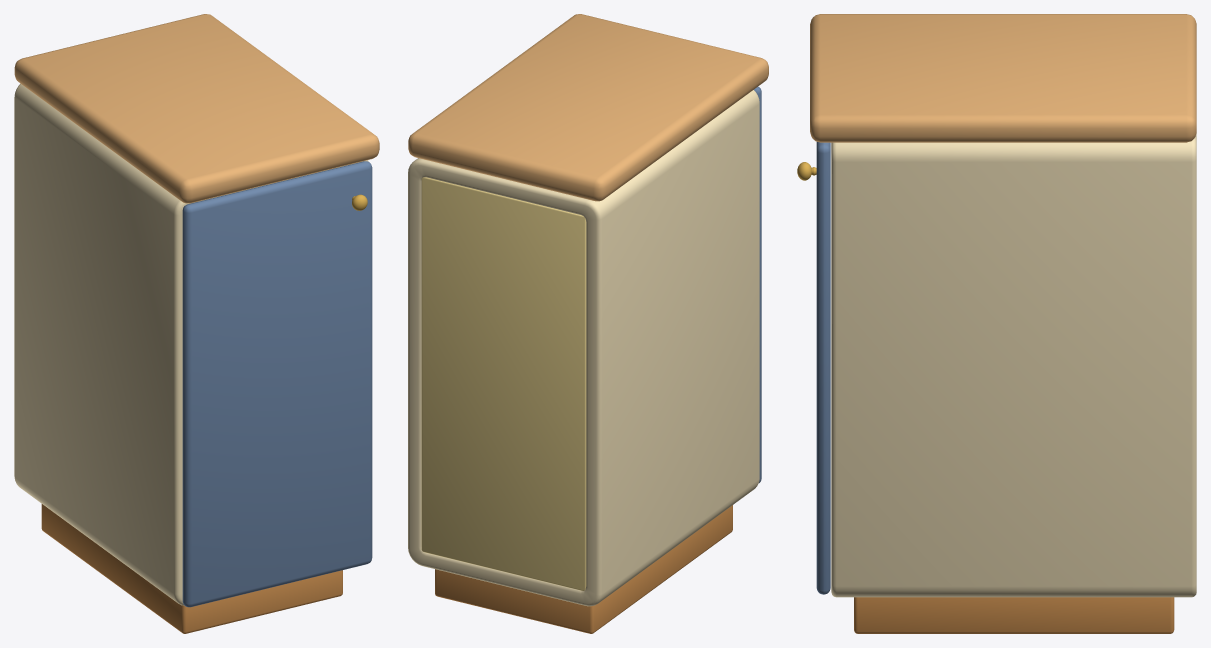
File: armario_cozinha_base_1porta_creme_azul.glb
The picture shows the model from 3 angles, left to right: view 1: azimuth 30°, elevation 25°; view 2: azimuth 150°, elevation 25°; view 3: azimuth 270°, elevation 25°; orthographic projection. The views are drawn at different scales.
Visible parts, largest first — view 1: armario_cozinha_base_1porta_creme_azul, porta_1; view 2: armario_cozinha_base_1porta_creme_azul, porta_1; view 3: armario_cozinha_base_1porta_creme_azul, porta_1.
Part boxes in pixels (box(x1,y1,x2,y2)): armario_cozinha_base_1porta_creme_azul: box(14, 14, 379, 633); porta_1: box(182, 161, 372, 607); armario_cozinha_base_1porta_creme_azul: box(408, 14, 768, 633); porta_1: box(754, 86, 761, 482); armario_cozinha_base_1porta_creme_azul: box(810, 14, 1196, 633); porta_1: box(797, 142, 830, 594).
Bounding box in the file's own units: 0.398 × 0.9 × 0.619.
1 material, 1 textured.
